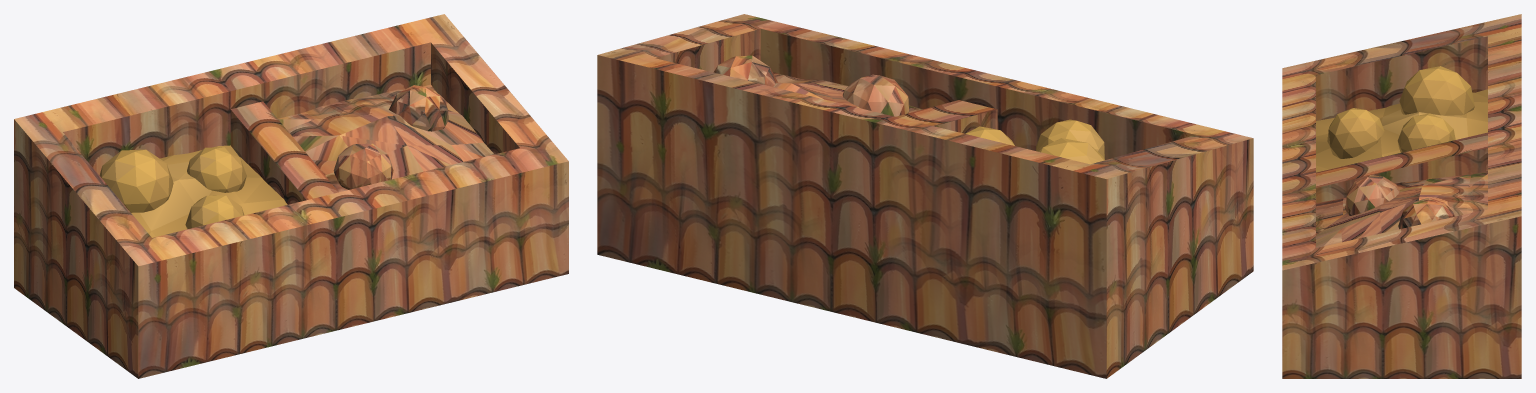
File: crate_long_A.gltf
3 views of the same model, side by side, from view 1: azimuth 30°, elevation 25°; view 2: azimuth 150°, elevation 25°; view 3: azimuth 270°, elevation 25° (orthographic). The views are drawn at different scales.
Visible parts, largest first — view 1: crate_long_A; view 2: crate_long_A; view 3: crate_long_A.
Part boxes in pixels (bbox=[...]): crate_long_A: bbox=[14, 14, 568, 378]; crate_long_A: bbox=[597, 14, 1253, 378]; crate_long_A: bbox=[1282, 14, 1521, 378].
Size of the model in its own units: 0.4 by 0.15 by 0.2.
Materials: 4 (1 with a texture image).
